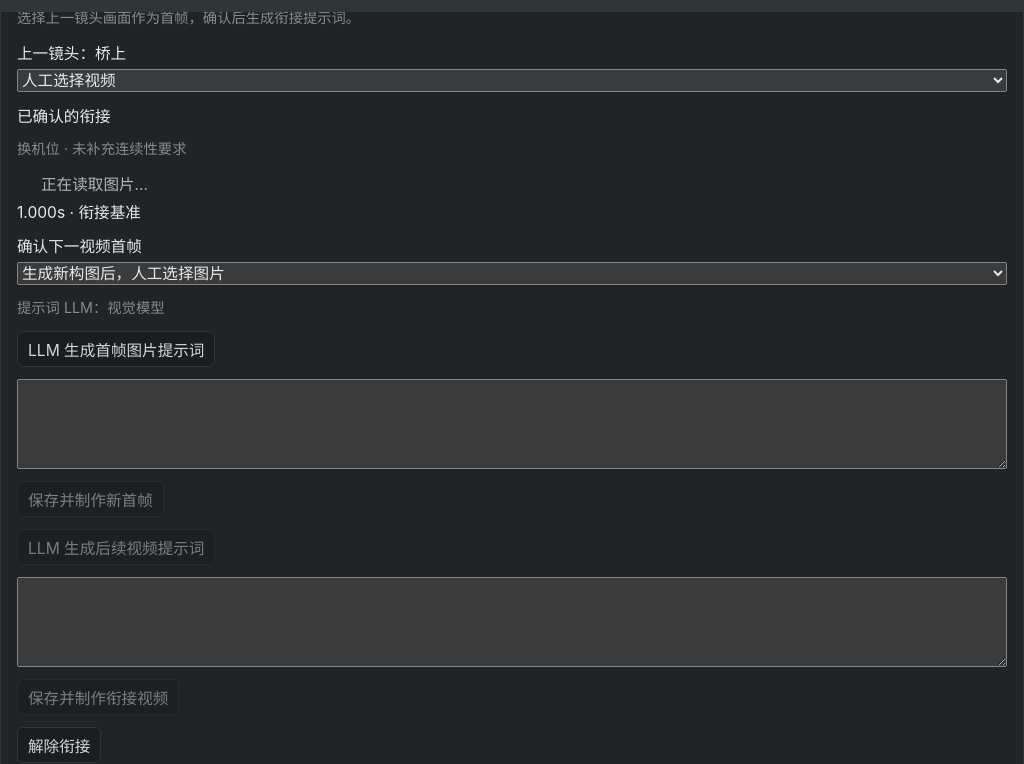
Scenario: manual continuity workflow › requires final image adoption when reframing before enabling video prompting
(page scrolled)
Expected: the button "LLM 生成后续视频提示词" is disabled, top-left (17, 530), bottom-right (216, 566)
Select "frame.png" in the dropdown labelled "确认下一视频首帧" at (512, 274), box top-left (17, 262), bottom-right (1007, 285)
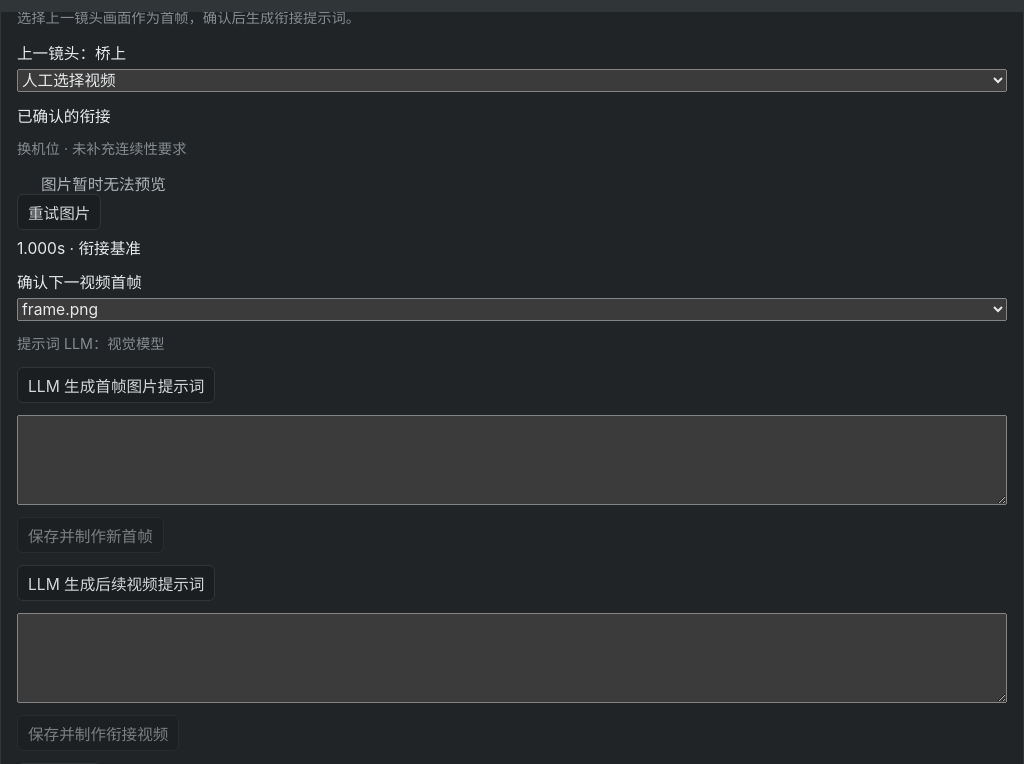
Now the button "LLM 生成后续视频提示词" is enabled, box top-left (17, 566), bottom-right (216, 602)
